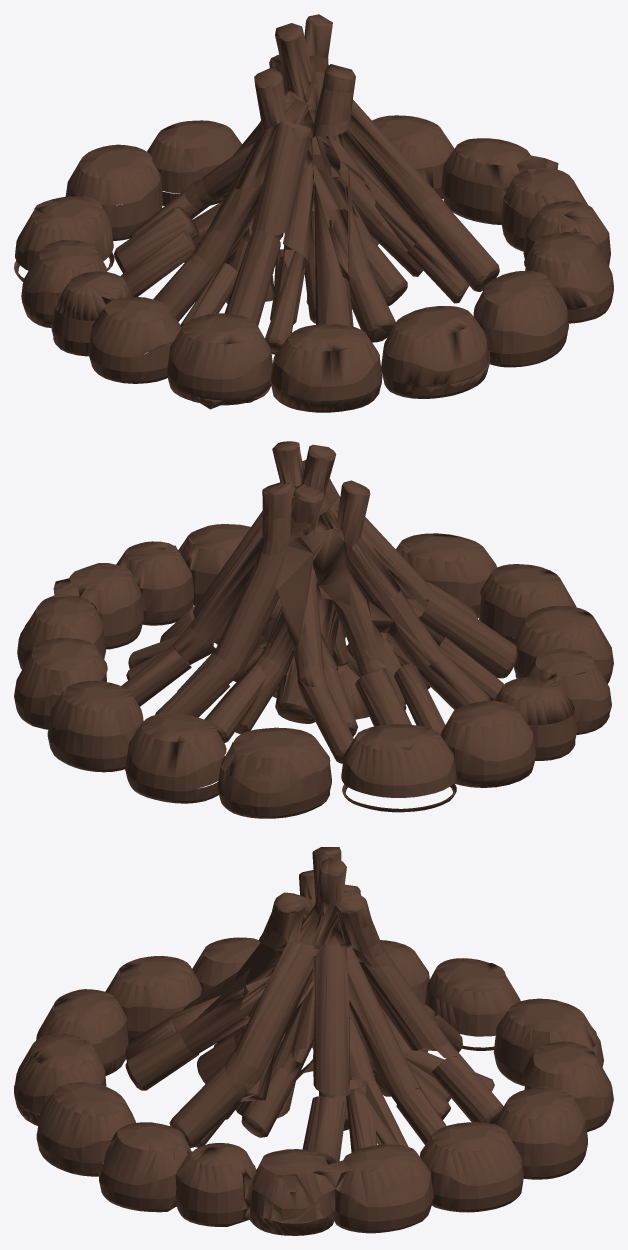
File: campfire_flat.glb
3 renders of one model, top to bottom at view 1: azimuth 30°, elevation 25°; view 2: azimuth 150°, elevation 25°; view 3: azimuth 270°, elevation 25°, orthographic.
Visible parts, largest first — view 1: material; view 2: material; view 3: material.
Part boxes in pixels (left/top/right/bottom): material: left=14, top=14, right=613, bottom=412; material: left=14, top=441, right=613, bottom=818; material: left=14, top=847, right=613, bottom=1235.
Size of the model in its own units: 0.9374 by 0.45 by 0.9374.
